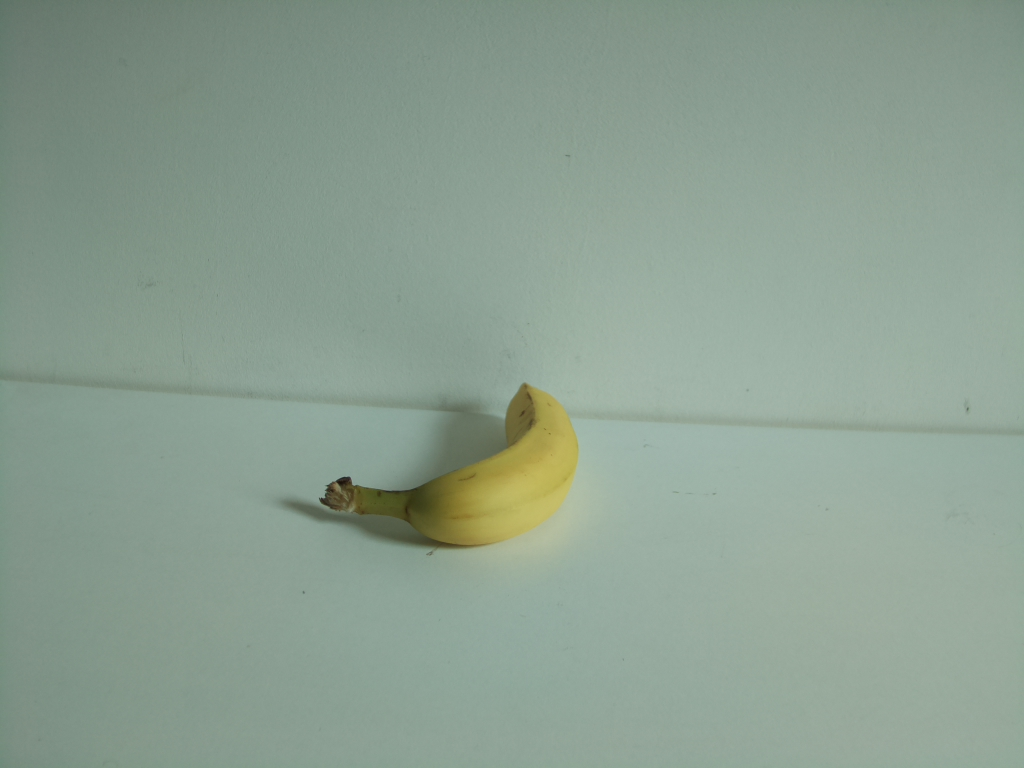banana: (319, 382, 580, 547)
